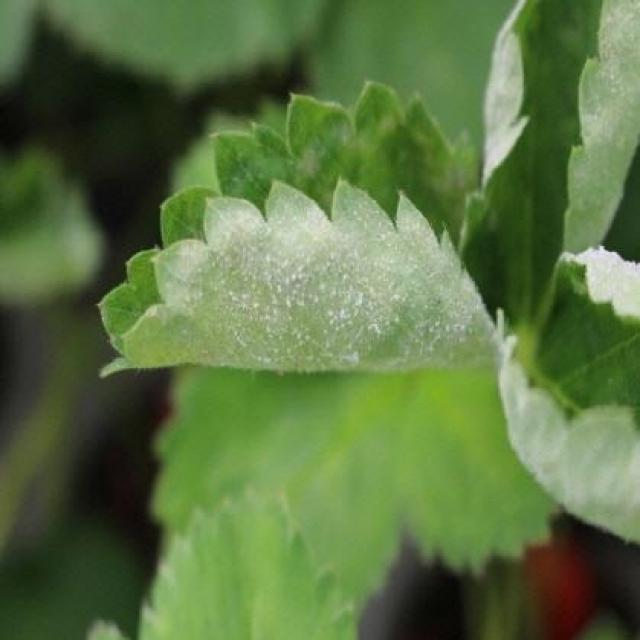powdery_mildew_leaf: (93, 78, 493, 380), (457, 0, 638, 332), (491, 244, 638, 547)
